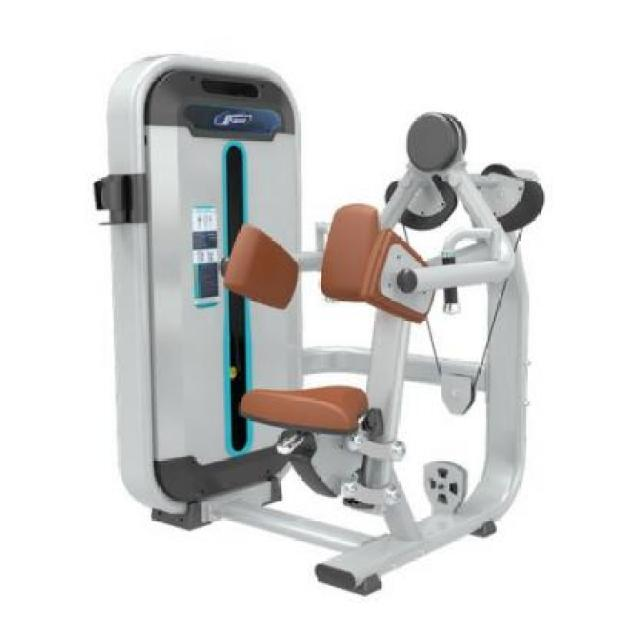lateral raises machine: (94, 52, 548, 596)
